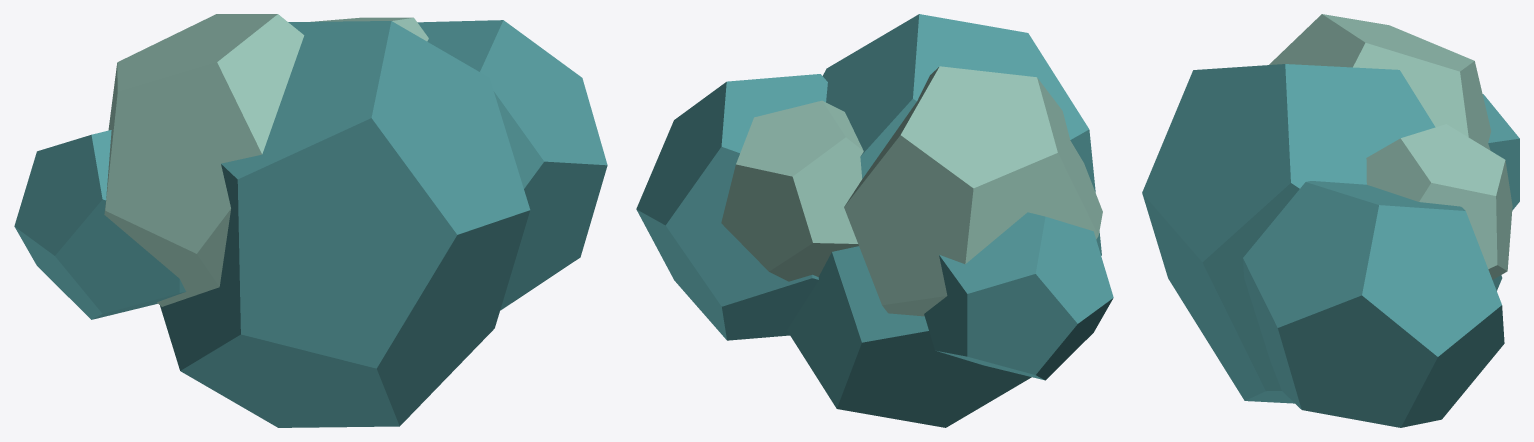
Rendered from cave_stalagmite.glb.
The picture shows the model from 3 angles, left to right: view 1: azimuth 30°, elevation 25°; view 2: azimuth 150°, elevation 25°; view 3: azimuth 270°, elevation 25°; orthographic projection. The views are drawn at different scales.
Visible parts, largest first — view 1: rock_2, rock_1, rock_4, rock_0, rock_3; view 2: rock_1, rock_2, rock_4, rock_0, rock_3; view 3: rock_4, rock_2, rock_1, rock_3, rock_0.
Part boxes in pixels (bbox=[...]): rock_2: bbox=[160, 21, 530, 427]; rock_1: bbox=[104, 14, 304, 306]; rock_4: bbox=[417, 20, 607, 310]; rock_0: bbox=[14, 130, 185, 319]; rock_3: bbox=[311, 17, 428, 41]; rock_1: bbox=[844, 66, 1102, 316]; rock_2: bbox=[787, 14, 1101, 427]; rock_4: bbox=[636, 74, 827, 340]; rock_0: bbox=[924, 212, 1113, 380]; rock_3: bbox=[721, 100, 863, 281]; rock_4: bbox=[1243, 181, 1504, 427]; rock_2: bbox=[1142, 64, 1502, 403]; rock_1: bbox=[1269, 14, 1491, 150]; rock_3: bbox=[1366, 124, 1512, 279]; rock_0: bbox=[1482, 94, 1519, 210].
Size of what is drawn, in the model's own units: 2.86 by 2.24 by 2.05.
